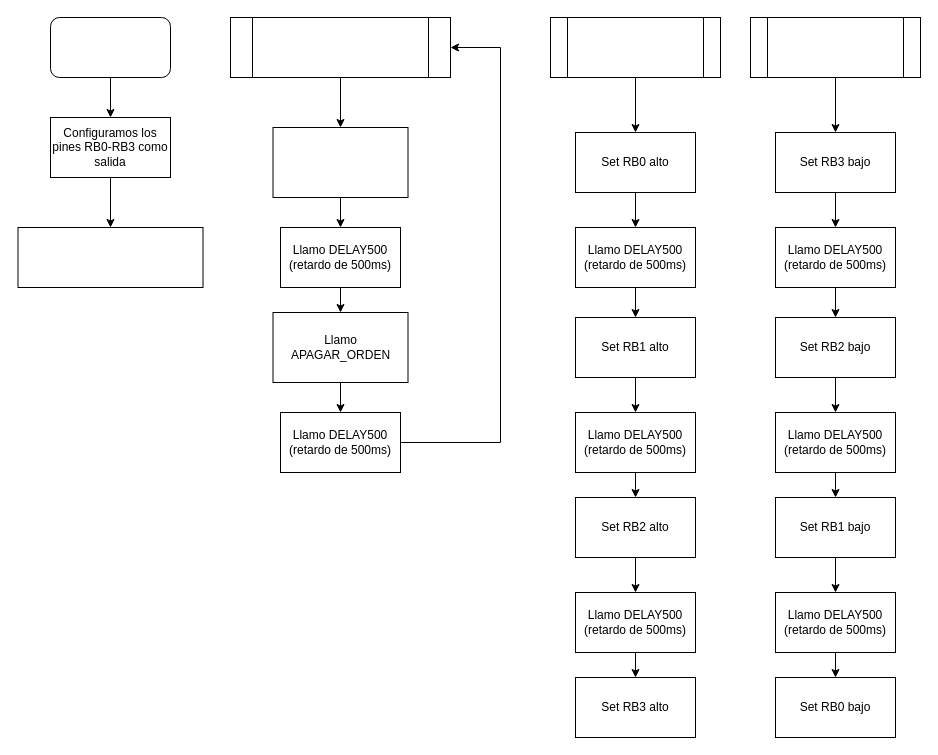
This 938x755 diagram has some shape labels left out. Here are the shapes that lost their labels. From the top down, the box of each, then its label:
(50, 16, 170, 78): INICIO
(230, 16, 450, 78): ENCENDER_ORDEN_CICLICO
(550, 16, 720, 78): ENCENDER_ORDEN
(750, 16, 920, 78): APAGAR_ORDEN
(272, 126, 408, 198): Llamo ENCENDER_ORDEN
(17, 226, 203, 288): Llamo ENCENDER_ORDEN_CICLICO
